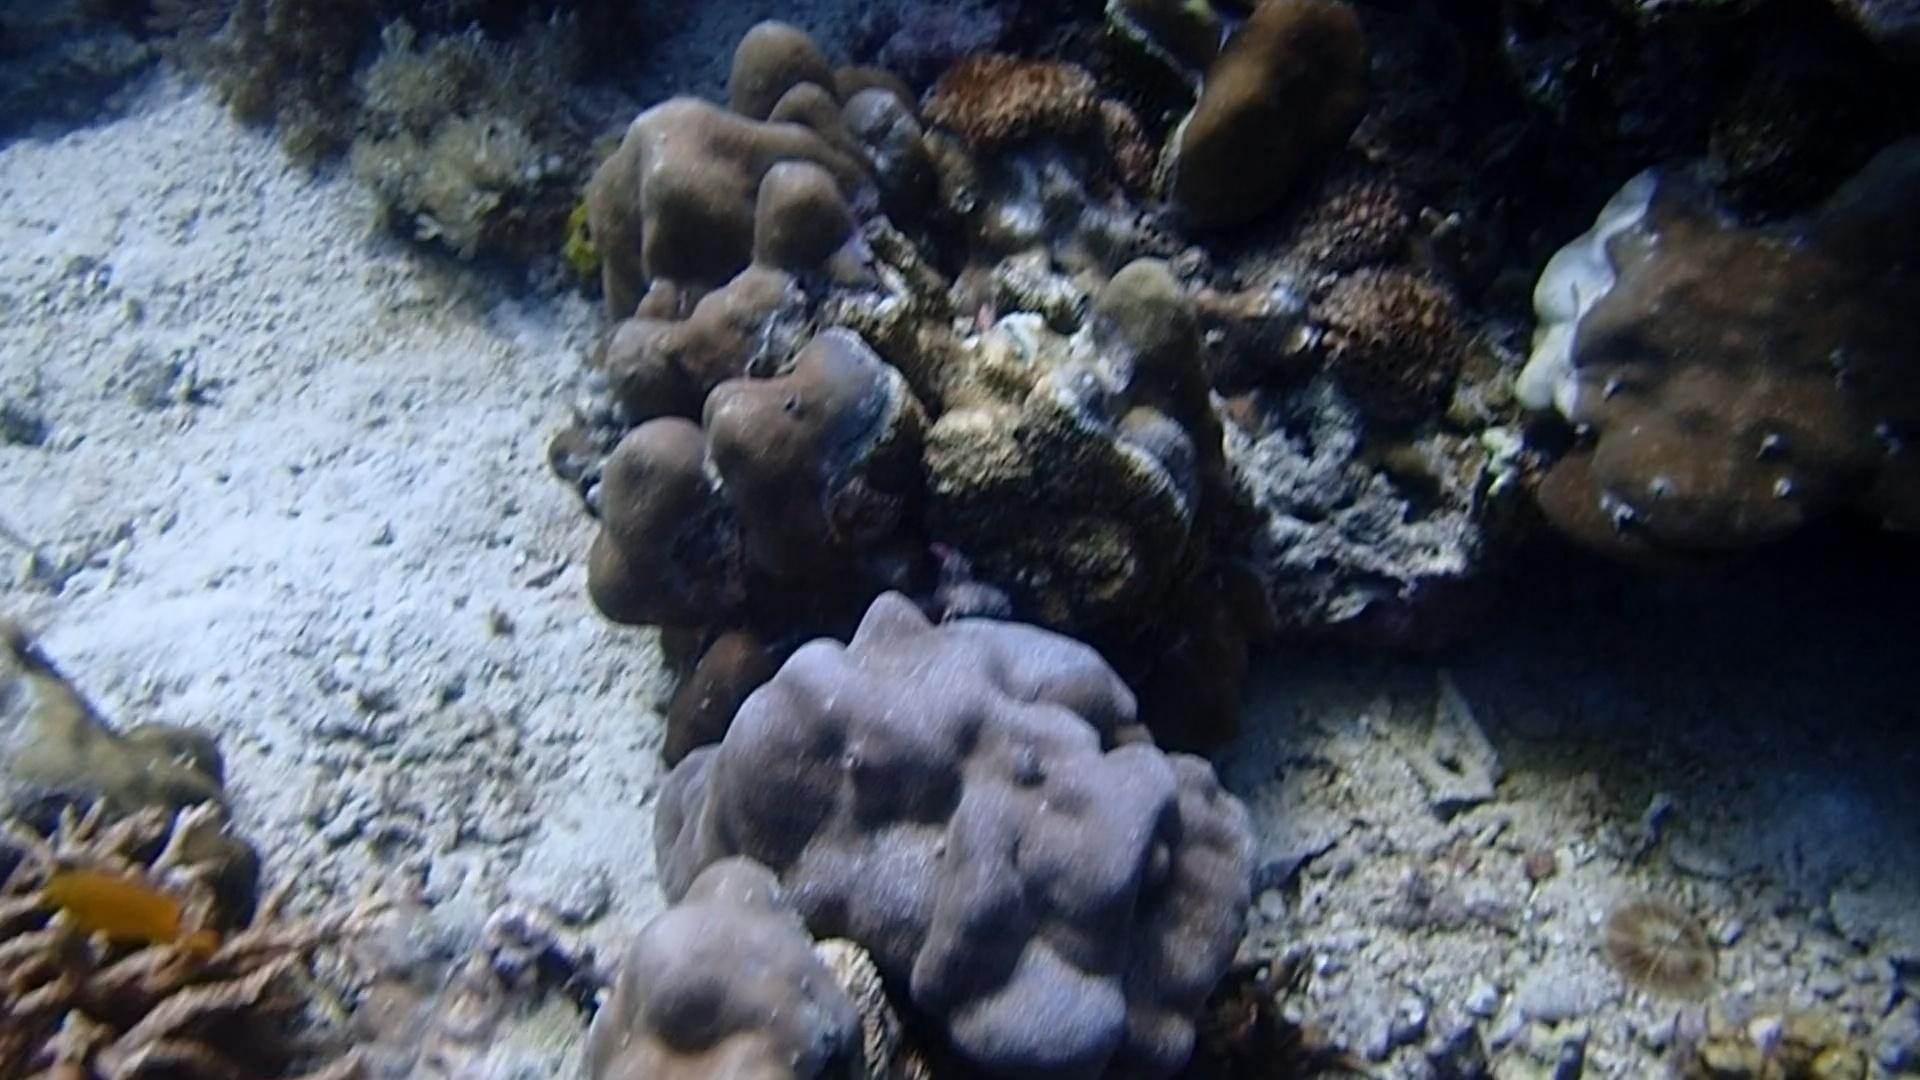Yellow Fish: (41, 856, 223, 959)
